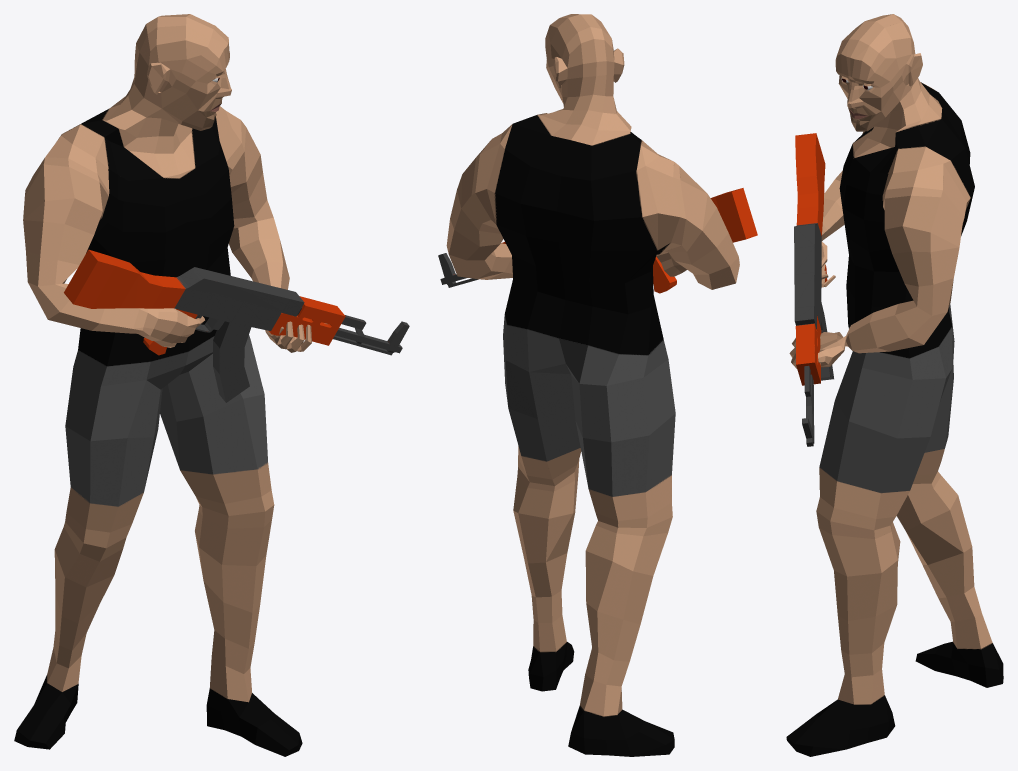
Rendered from PlayerIdle(151).obj.
3 views of the same model, side by side, from view 1: azimuth 30°, elevation 25°; view 2: azimuth 150°, elevation 25°; view 3: azimuth 270°, elevation 25° (orthographic). The views are drawn at different scales.
Parts seen in each view (by area): view 1: Plane002, Object001; view 2: Plane002, Object001; view 3: Plane002, Object001.
Boxes of the visible parts, left/top/right/bottom form: Plane002: left=14, top=14, right=327, bottom=756; Object001: left=64, top=249, right=409, bottom=402; Plane002: left=446, top=14, right=739, bottom=756; Object001: left=438, top=188, right=757, bottom=293; Plane002: left=786, top=14, right=1003, bottom=756; Object001: left=794, top=133, right=833, bottom=446.
Bounding box in the file's own units: 892 × 1790 × 505.
